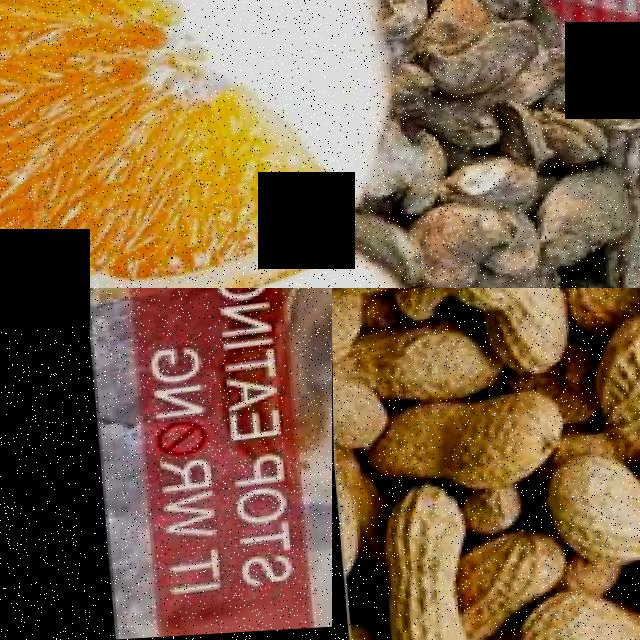orange: (0, 0, 332, 288)
peanuts: (380, 387, 569, 496), (369, 487, 481, 640), (451, 526, 571, 638), (552, 451, 640, 579), (367, 321, 488, 408), (474, 288, 573, 379), (594, 311, 640, 446), (527, 586, 640, 640), (423, 288, 501, 317)
